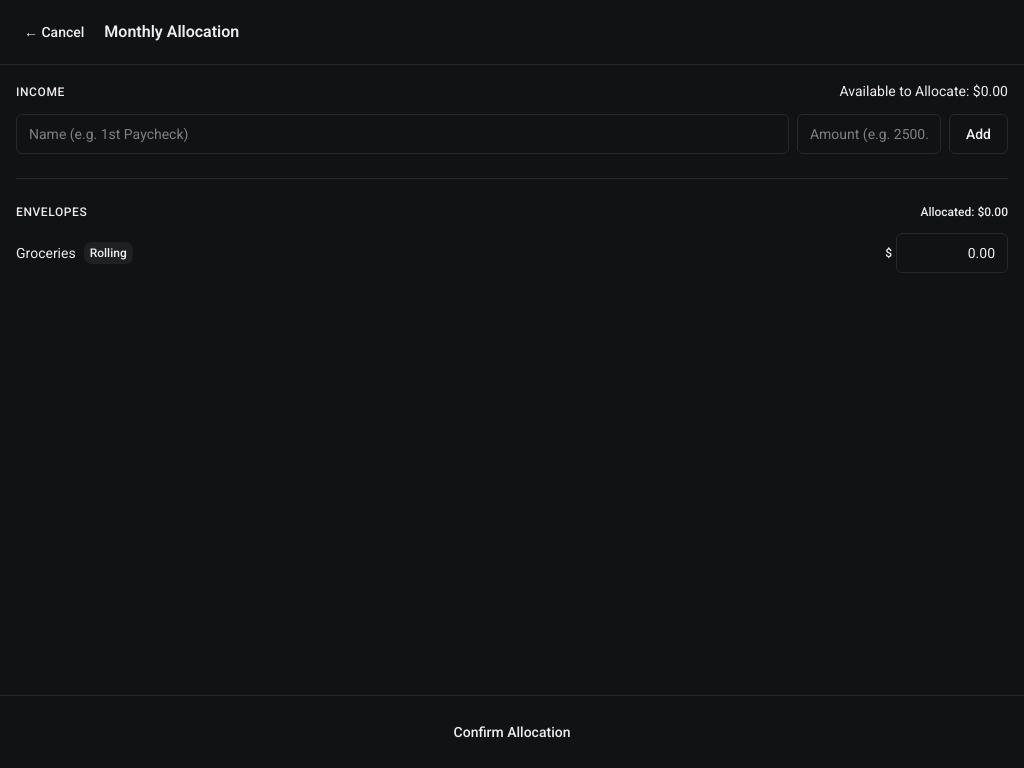
Test: AllocationPage › shows red border and error on blur for invalid input
Replace the text in the field with test id "allocation-input-1" with "abc" at (952, 253), box [896,233,1008,273]
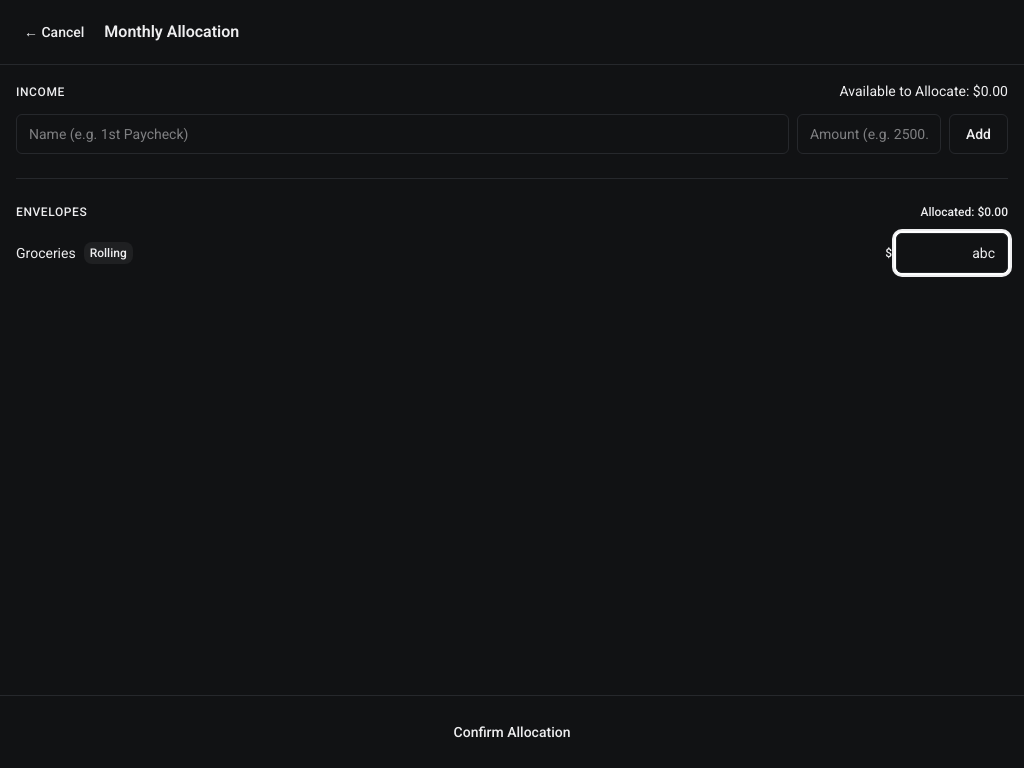
Press Tab
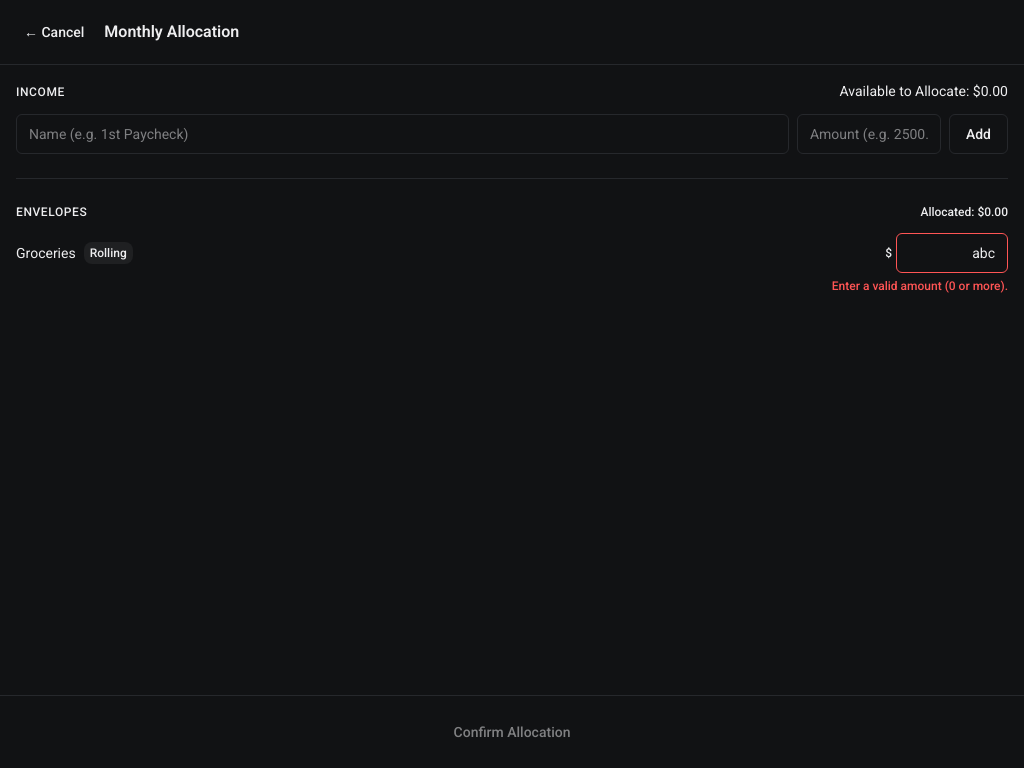
Expected: the text "Enter a valid amount (0 or more)." is shown, [832,279,1008,293]
